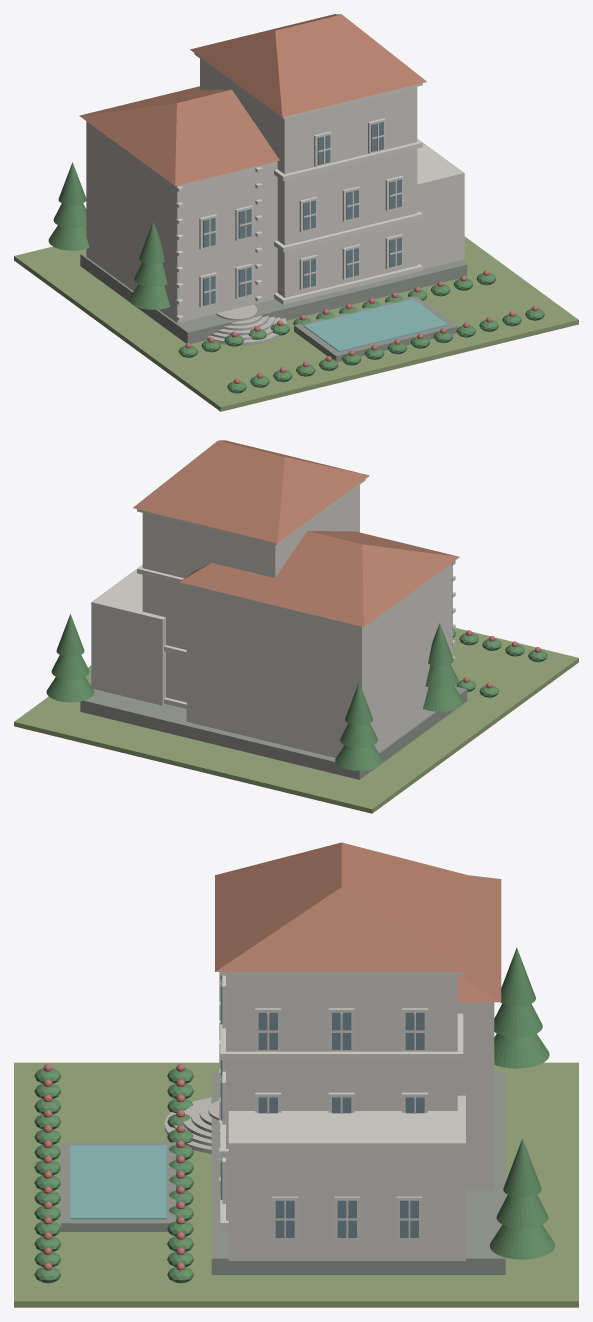
Rendered from trabzon-kosku.glb.
3 renders of one model, top to bottom at view 1: azimuth 30°, elevation 25°; view 2: azimuth 150°, elevation 25°; view 3: azimuth 270°, elevation 25°, orthographic. The views are drawn at different scales.
Parts seen in each view (by area): view 1: Trabzon Atatürk Köşkü; view 2: Trabzon Atatürk Köşkü; view 3: Trabzon Atatürk Köşkü.
Part boxes in pixels (x1,y1,x2,y2): Trabzon Atatürk Köşkü: (14, 14, 578, 411); Trabzon Atatürk Köşkü: (14, 440, 578, 813); Trabzon Atatürk Köşkü: (14, 842, 578, 1307).
Bounding box in the file's own units: 10 × 6.69 × 10.
